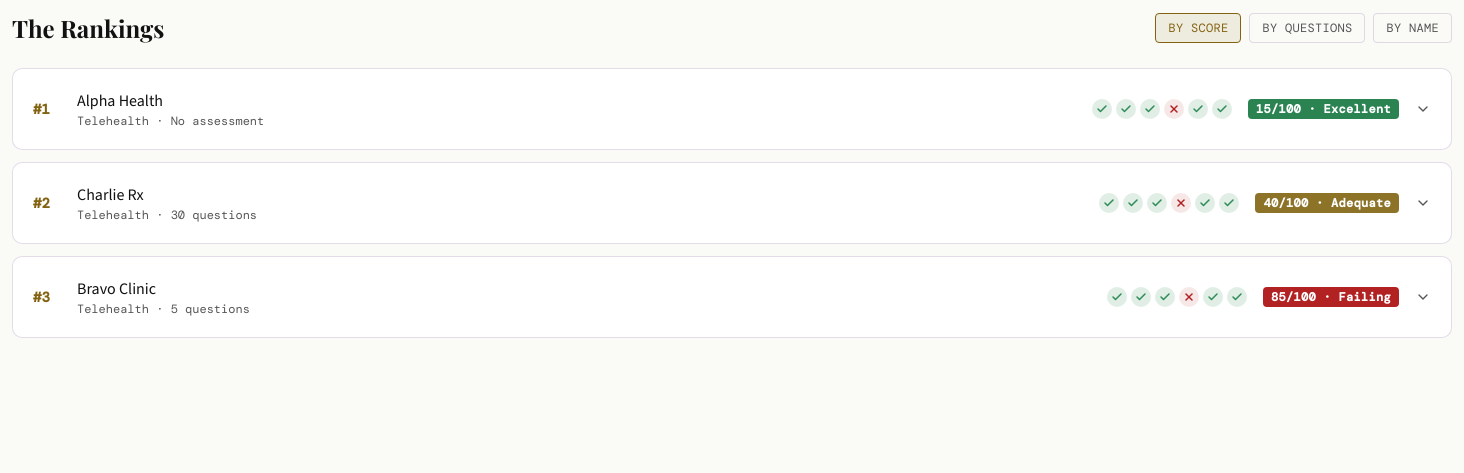
Test: ClinicRankings › expands a clinic to show strengths, weaknesses, criteria and its site
This screenshot has width=1464, height=473.
What coordinates should you click on to do the following:
click the button "#3 Bravo Clinic Telehealth · 5 questions 85/100 · Failing"
I would click on:
 (117, 288)
Its box is x1=13 y1=257 x2=1451 y2=337.
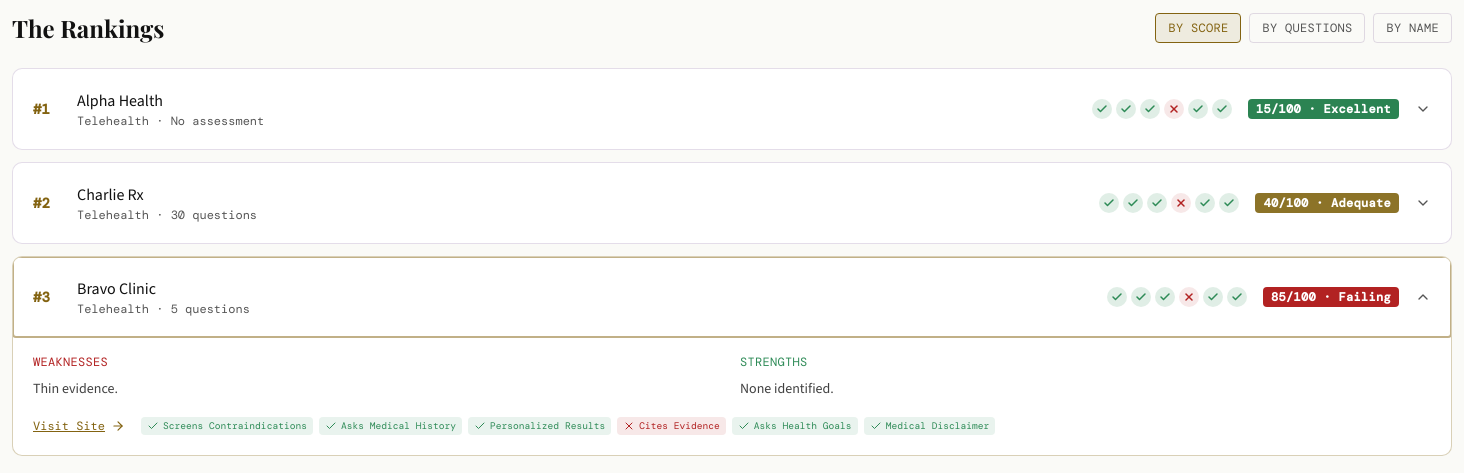
Now the text "Thin evidence." is shown, box x1=33 y1=379 x2=118 y2=398
Now the text "None identified." is shown, box x1=740 y1=379 x2=834 y2=398
What coordinates should you click on to do the following:
click the button "#3 Bravo Clinic Telehealth · 5 questions 85/100 · Failing"
I would click on:
 (117, 288)
Its box is x1=13 y1=257 x2=1451 y2=337.
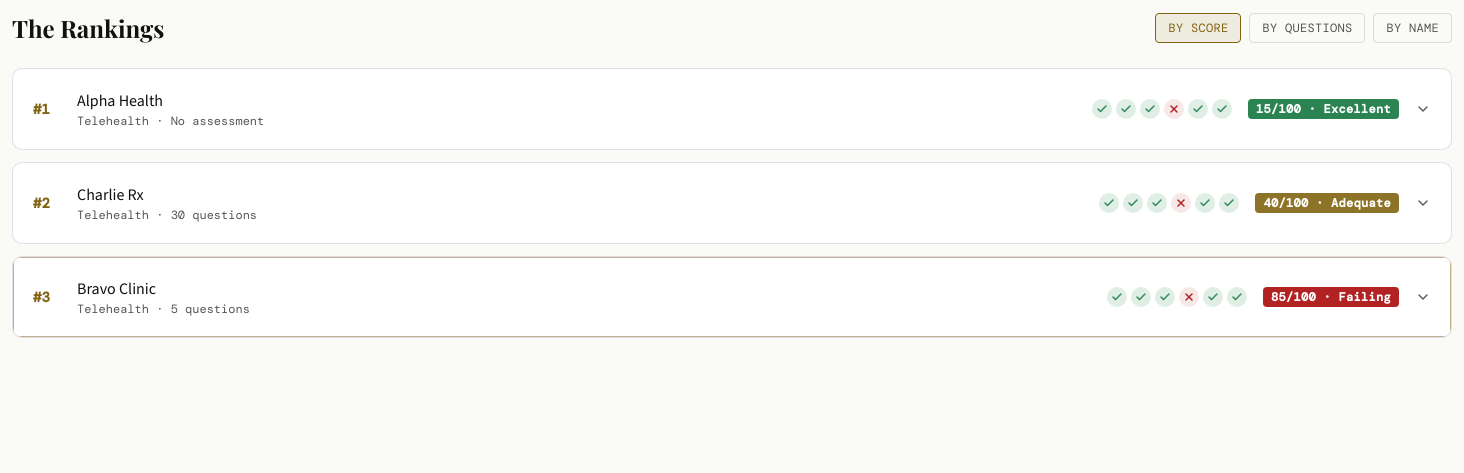
Now the text "Thin evidence." is gone
